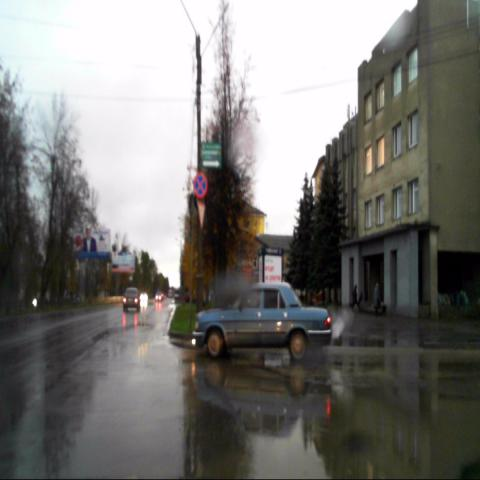3_27: (193, 172, 208, 199)
